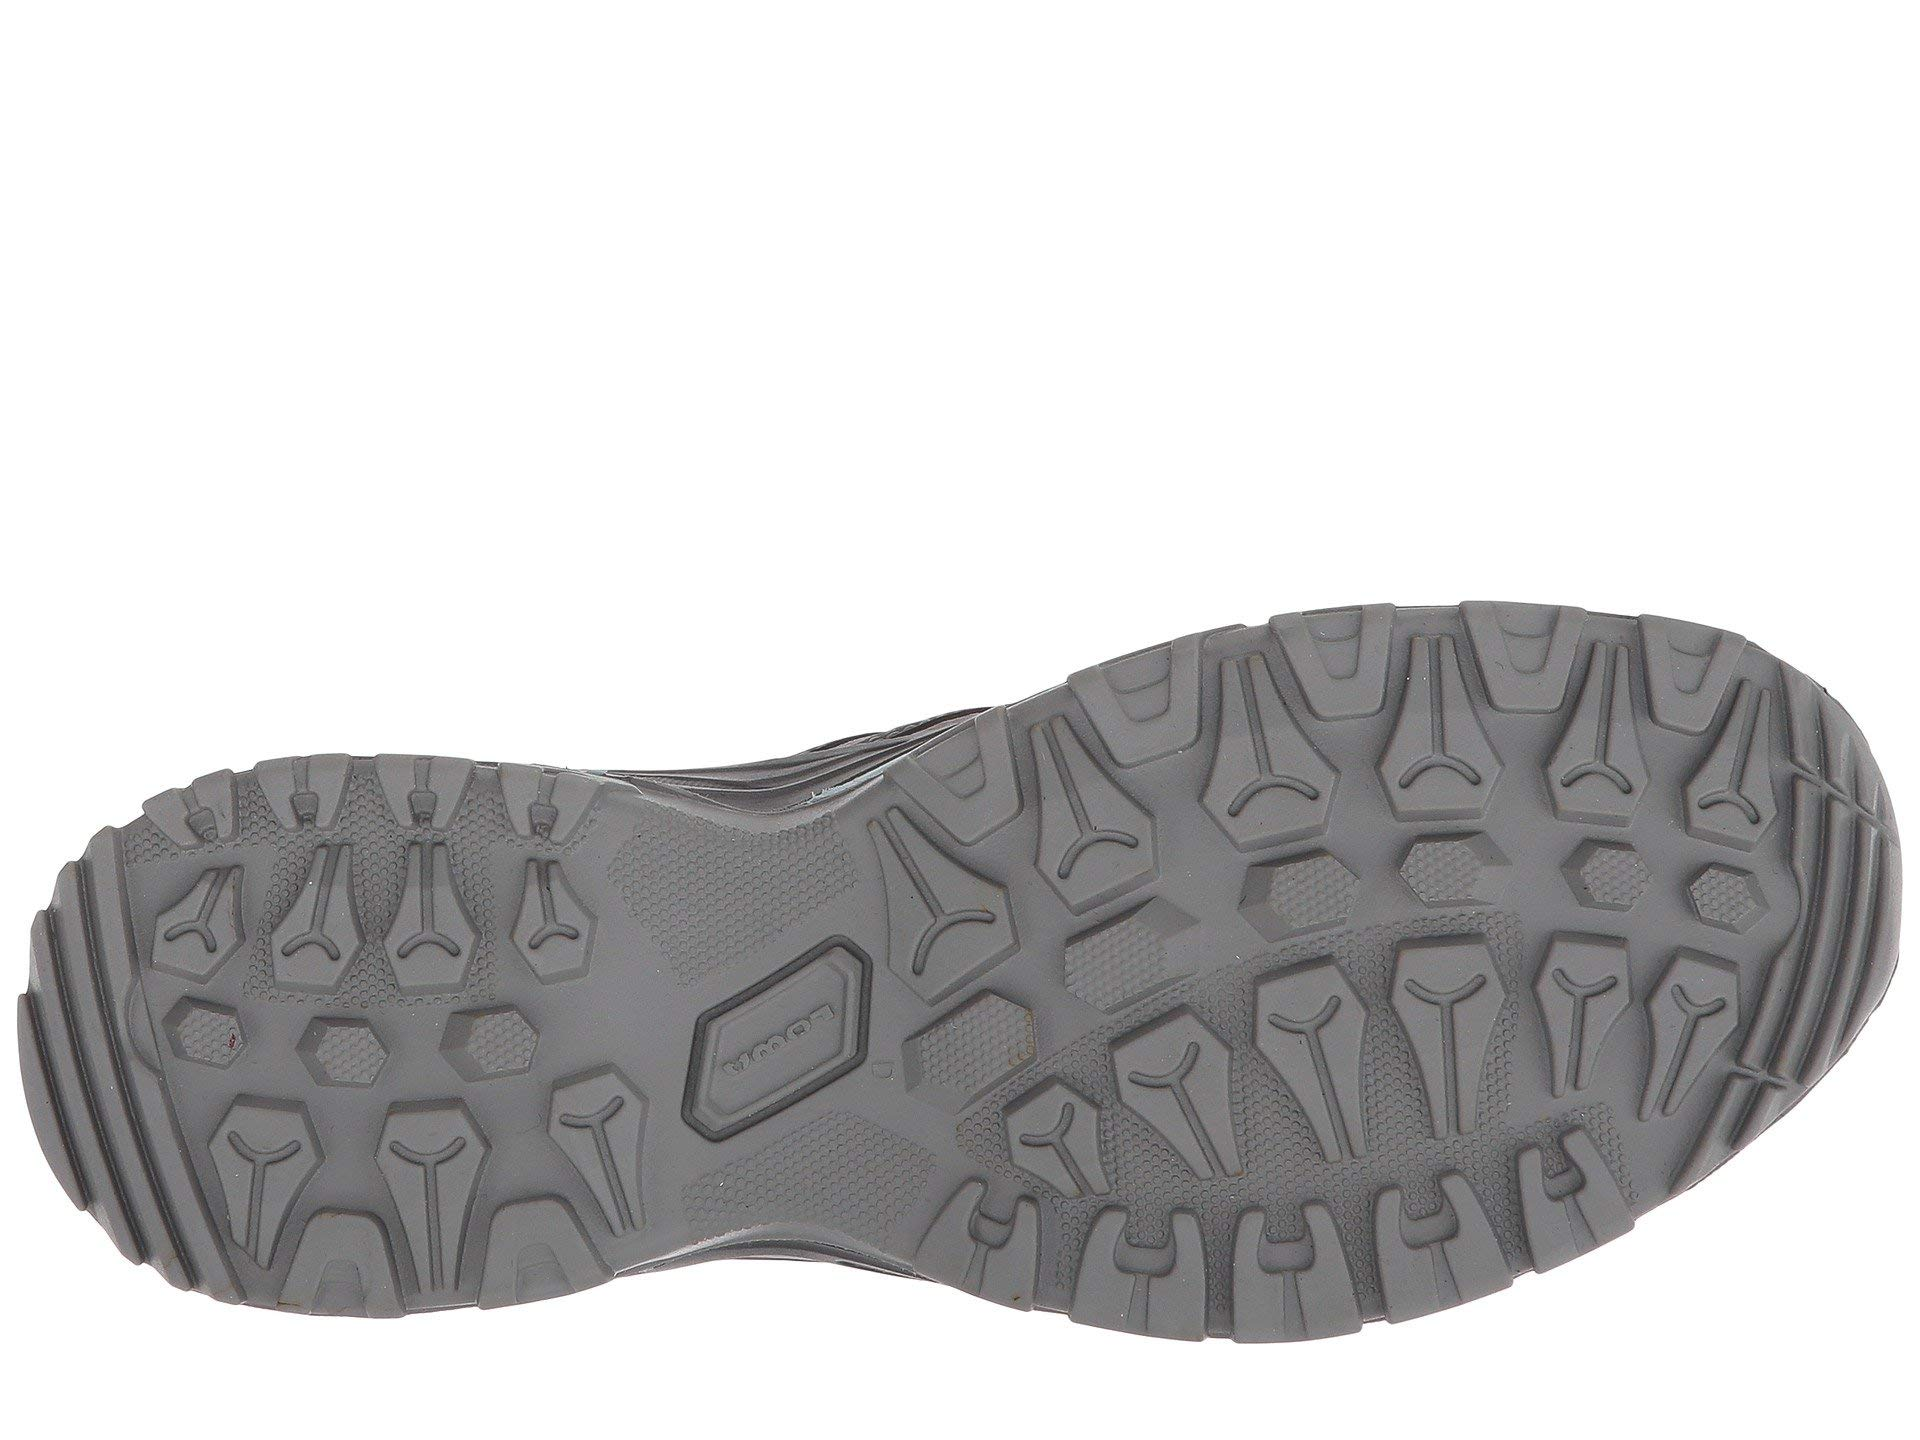line: (124, 803, 593, 1263), (1569, 656, 1912, 1045)
polygon: (124, 803, 593, 1263), (1569, 656, 1912, 1045), (618, 902, 918, 1166), (1222, 806, 1515, 1029)
star: (124, 803, 593, 1263), (1569, 656, 1912, 1045)
text: (618, 902, 918, 1166)
